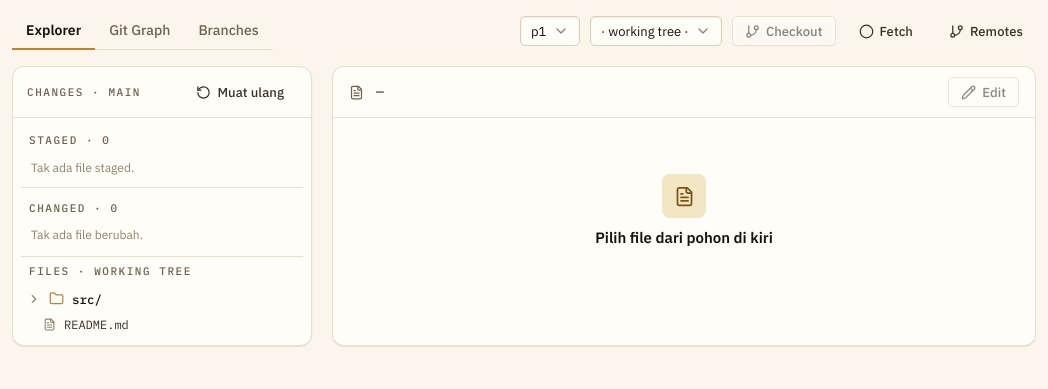
it: IdeScreen preview .md (SPEC-240) › file non-.md → tak ada toggle Preview|Source, source tampil
Click the button "src/" at (34, 298), box [21, 286, 303, 312]
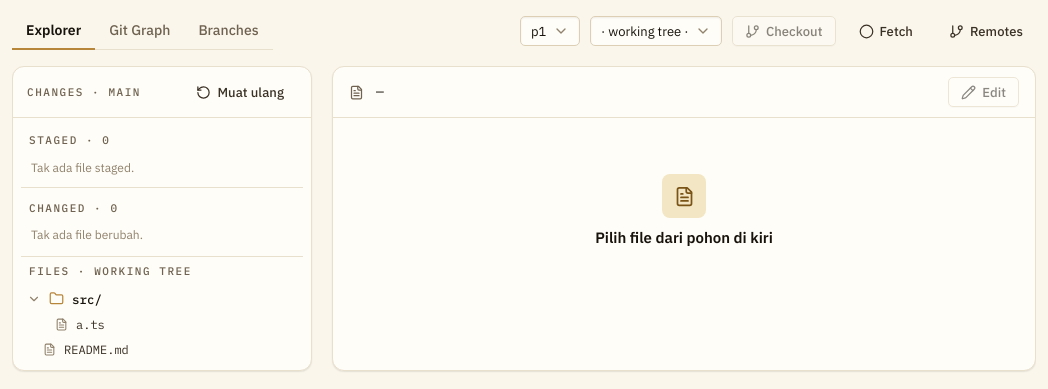
Click the button "a.ts" at (62, 324), box [21, 312, 303, 336]
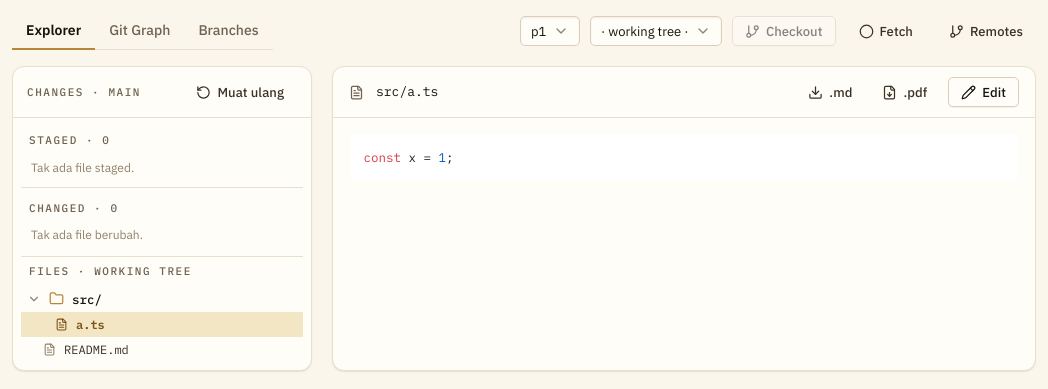
Expected: the element with class "hljs" is shown, [351, 134, 1017, 180]
